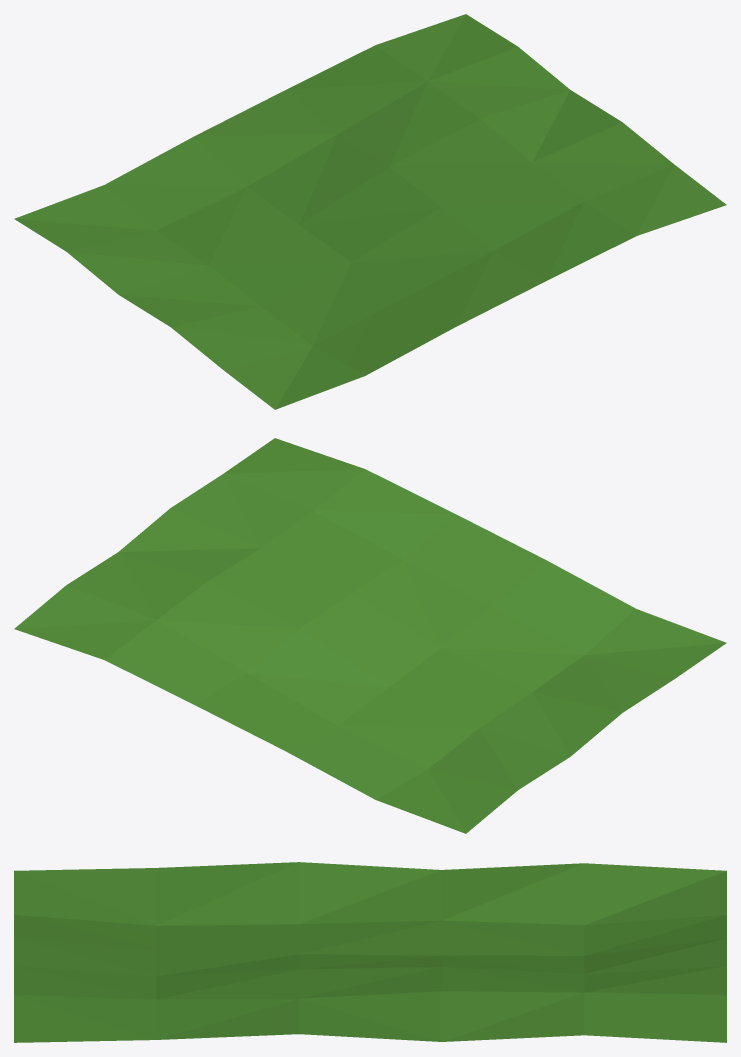
Rendered from terrain-plane-slope4.glb.
The picture shows the model from 3 angles, top to bottom: view 1: azimuth 30°, elevation 25°; view 2: azimuth 150°, elevation 25°; view 3: azimuth 270°, elevation 25°; orthographic projection. The views are drawn at different scales.
Visible parts, largest first — view 1: terrain-plane-slope4; view 2: terrain-plane-slope4; view 3: terrain-plane-slope4.
Boxes of the visible parts, x1=… form: terrain-plane-slope4: x1=14, y1=14, x2=726, y2=409; terrain-plane-slope4: x1=14, y1=438, x2=726, y2=833; terrain-plane-slope4: x1=14, y1=862, x2=726, y2=1042.
Size of the model in its own units: 30 by 6.4 by 30.
1 material, 1 textured.
